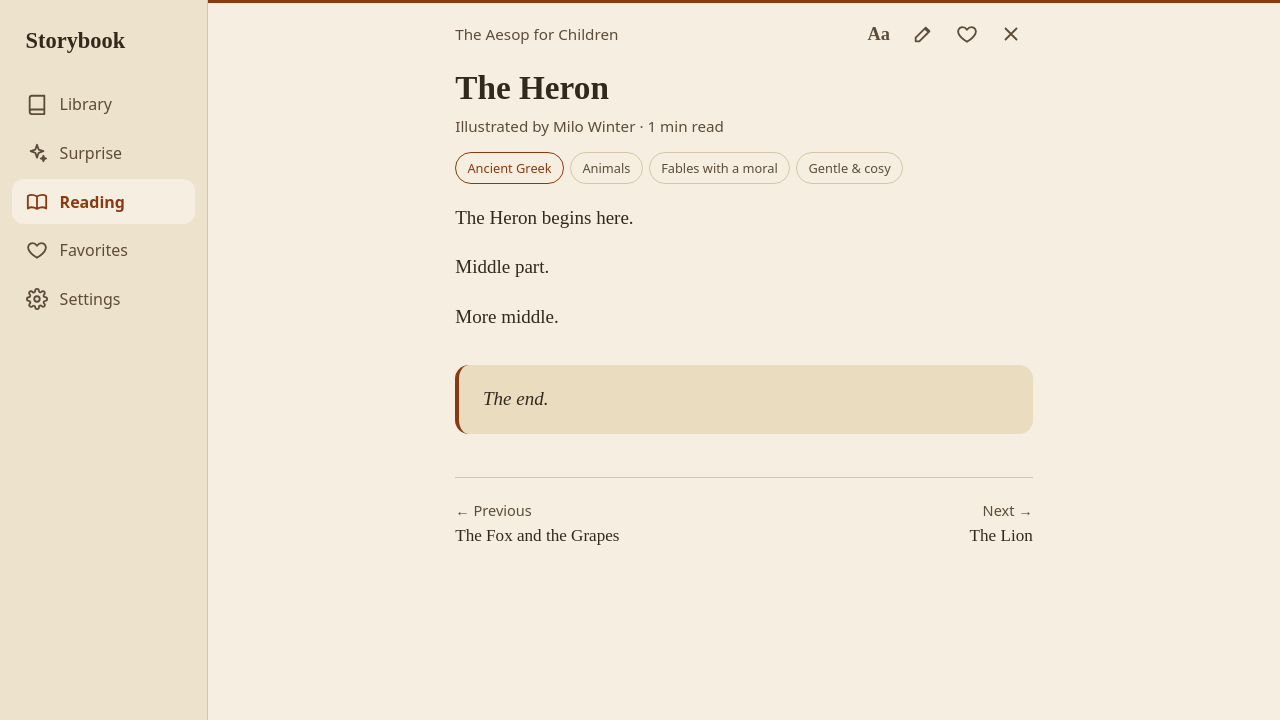
Test: highlights and notes › closes the Notes panel on Escape from anywhere
The image size is (1280, 720).
Expected: the text "The Heron begins here." is shown, [455,207,634,228]
Click the button named "Notes" at (923, 34), box [901,12,945,56]
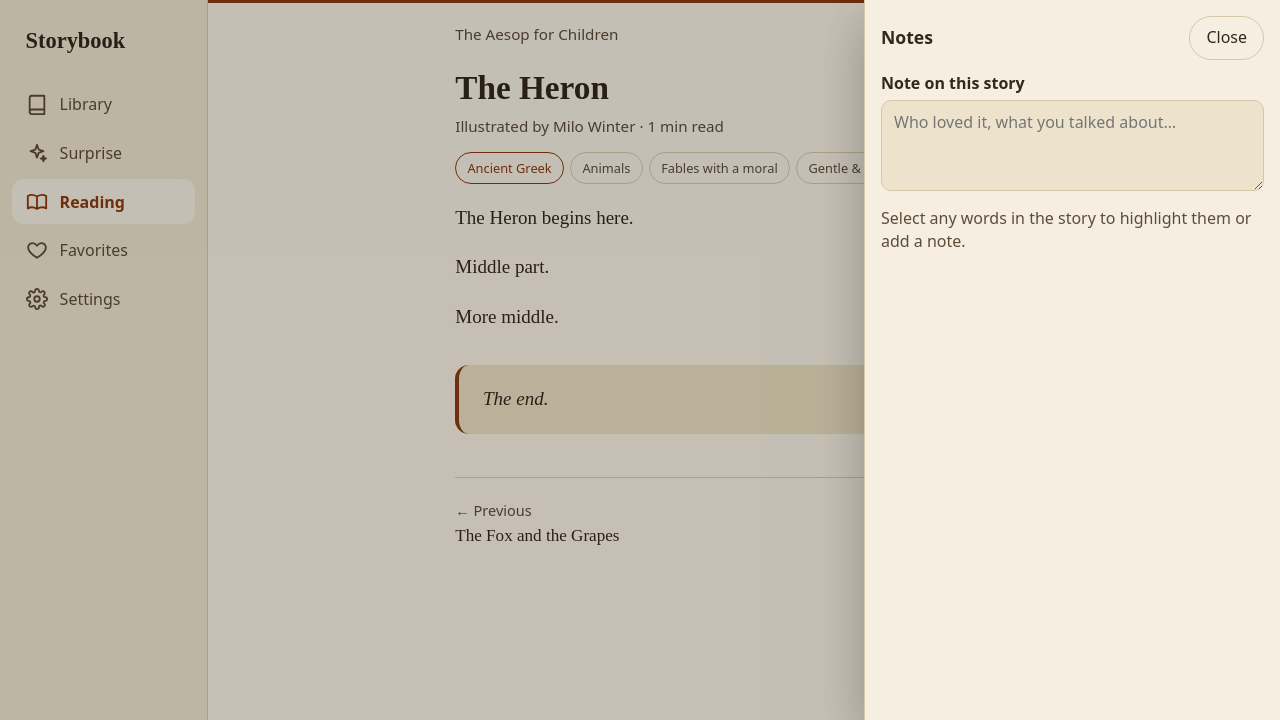
Press Escape
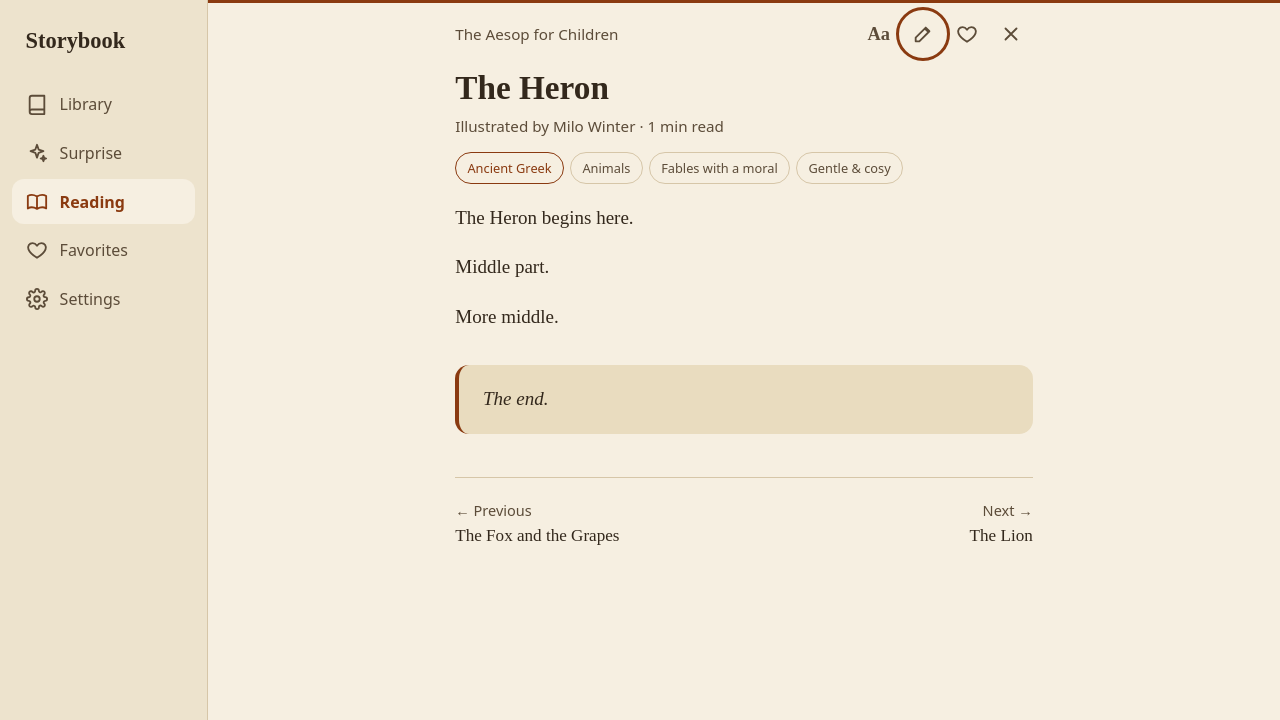
Expected: the heading "Notes" is gone
